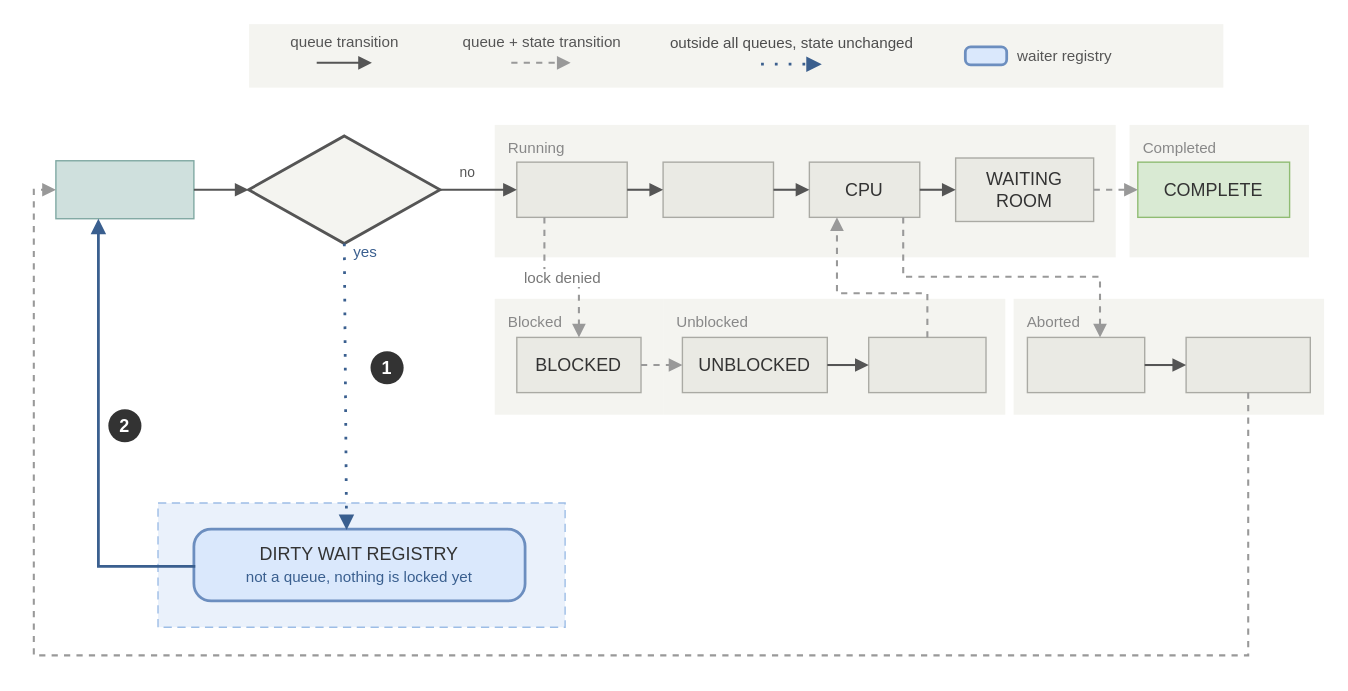
The diagram is 1348 pixels wide and 691 high, and some of its shapes have lost their labels. Here are the shapes that lost their labels. From the top down, the centre of each, then its label:
At (124,189): "PENDING".
At (343,189): "is any resource dirty or claimed?".
At (571,189): "LOCK".
At (717,189): "IO".
At (926,364): "READY".
At (1085,364): "ABORT".
At (1247,364): "BACKOFF".
